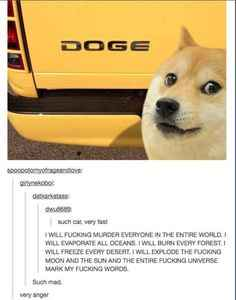doge: (142, 39, 227, 159)
